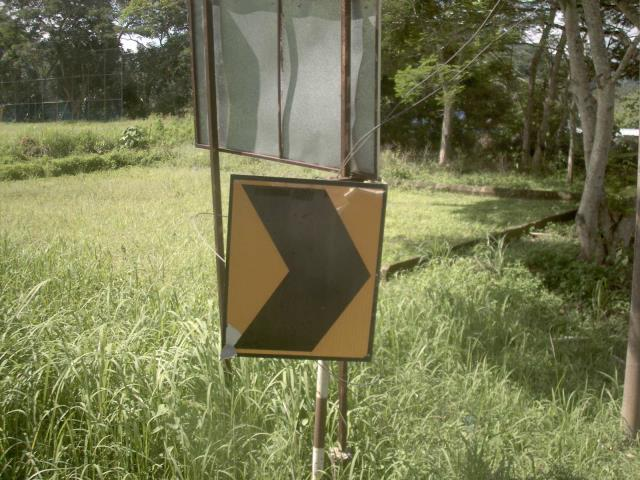traffic_sign: (200, 158, 403, 374)
